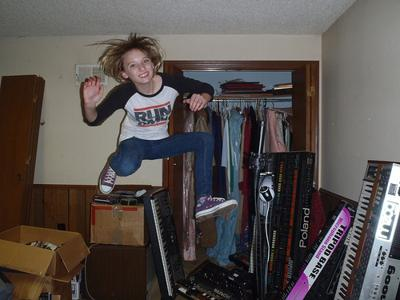person: (81, 36, 239, 217)
